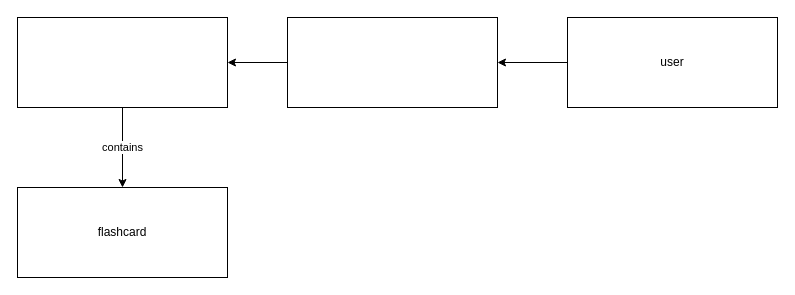
Some shapes in this 795 by 295 pixel diagram are drawn without their labels. The centre of each missing label's shape, as x and y in pixels:
deck: (x=122, y=62)
deck_study: (x=392, y=62)
